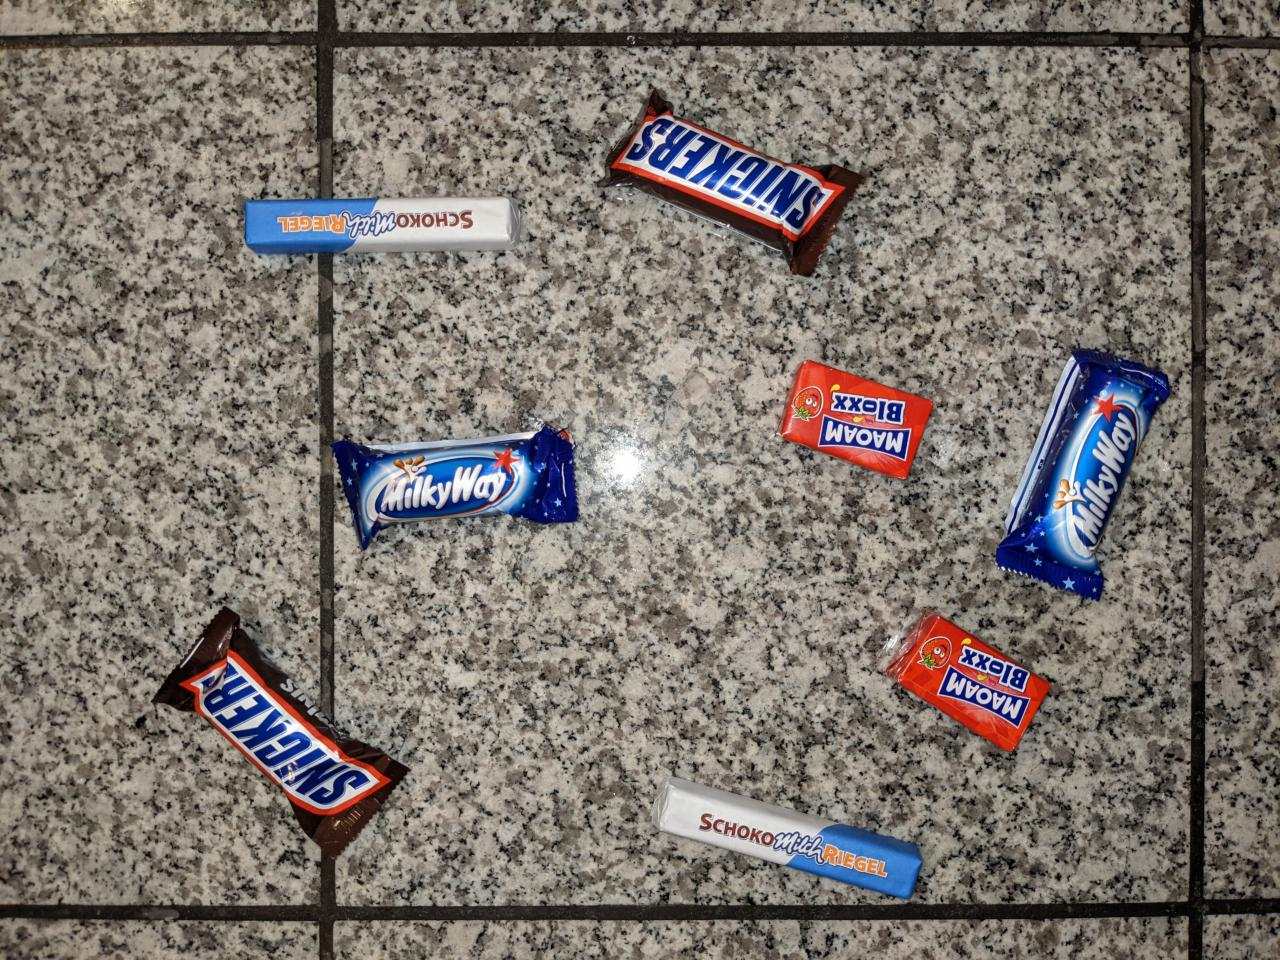MAOAM: (880, 605, 1056, 758), (774, 357, 937, 488)
MilkyWay: (991, 341, 1176, 607), (327, 418, 586, 558)
Schokoriegel: (646, 772, 928, 905), (239, 192, 527, 256)
Snickers: (147, 604, 417, 865), (589, 80, 870, 283)
